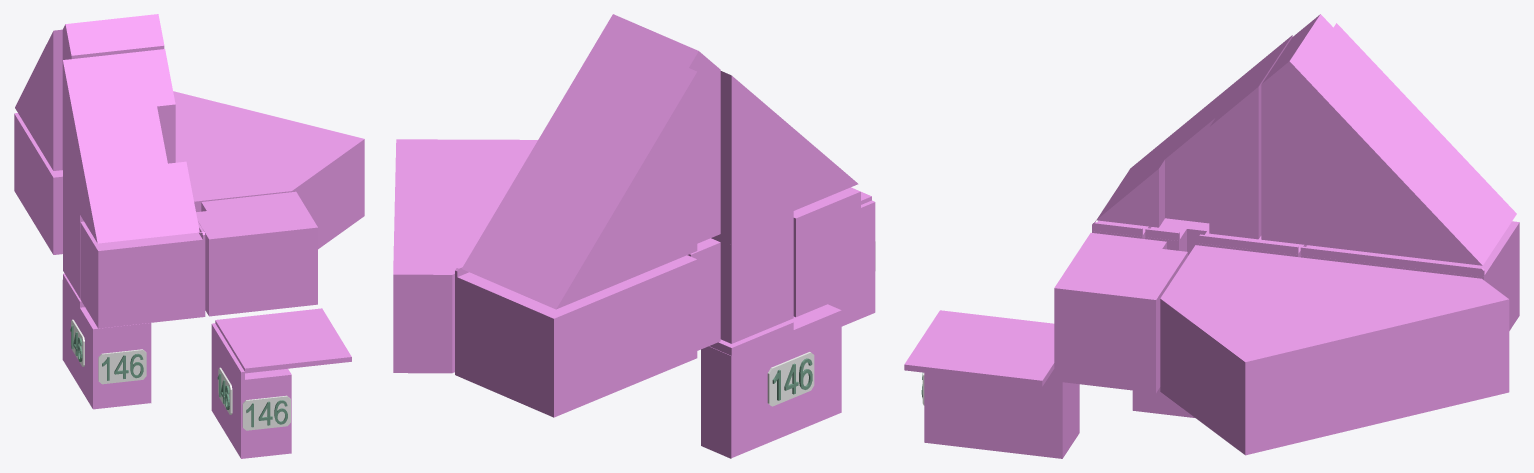
The picture shows the model from 3 angles, left to right: view 1: azimuth 30°, elevation 25°; view 2: azimuth 150°, elevation 25°; view 3: azimuth 270°, elevation 25°; orthographic projection. The views are drawn at different scales.
Parts seen in each view (by area): view 1: g_5, g_3, g_10, g_9, g_2, g_13, g_1, g_4, g_0, g_6, g_12, g_11 (+2 smaller); view 2: g_2, g_6, g_5, g_12, g_4, g_11, g_9, g_0, g_3, g_8, g_1, g_17; view 3: g_5, g_2, g_10, g_3, g_1, g_13, g_6, g_7, g_0, g_4, g_9.
Part boxes in pixels (x1,y1,x2,y2): g_5: (173,91,364,249); g_3: (80,49,204,243); g_10: (196,191,317,316); g_9: (80,221,205,328); g_2: (15,14,164,170); g_13: (215,308,351,373); g_1: (211,323,291,458); g_4: (63,56,114,214); g_0: (83,313,151,409); g_6: (14,113,62,254); g_12: (62,273,88,393); g_11: (63,188,83,297); g_2: (462,14,720,309); g_6: (455,255,697,417); g_5: (393,139,537,373); g_12: (701,318,807,458); g_4: (720,71,793,237); g_11: (711,212,793,343); g_9: (793,187,860,317); g_0: (793,304,841,426); g_3: (793,129,858,210); g_8: (687,238,720,350); g_1: (828,200,875,326); g_17: (767,352,814,406); g_5: (1160,245,1509,455); g_2: (1261,14,1516,265); g_10: (1054,233,1187,393); g_3: (1094,53,1280,239); g_1: (924,369,1079,458); g_13: (904,310,1054,386); g_6: (1300,221,1519,330); g_7: (1145,218,1306,257); g_0: (1132,387,1194,417); g_4: (1202,35,1292,117); g_9: (1092,220,1151,238).
Size of the model in its own units: 10.27 by 10.1 by 14.37.
